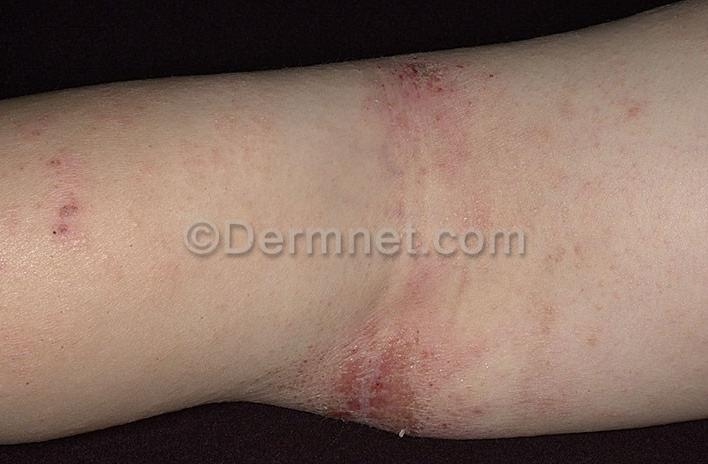eritema 1: (328, 300, 488, 464), (352, 49, 493, 180)
excoriacion 1: (340, 39, 519, 195)
excoriacion 3: (319, 293, 488, 460)
liquenificacion 1: (349, 39, 501, 157)
liquenificacion 3: (321, 315, 454, 445)
xerosis 1: (338, 42, 543, 464)
